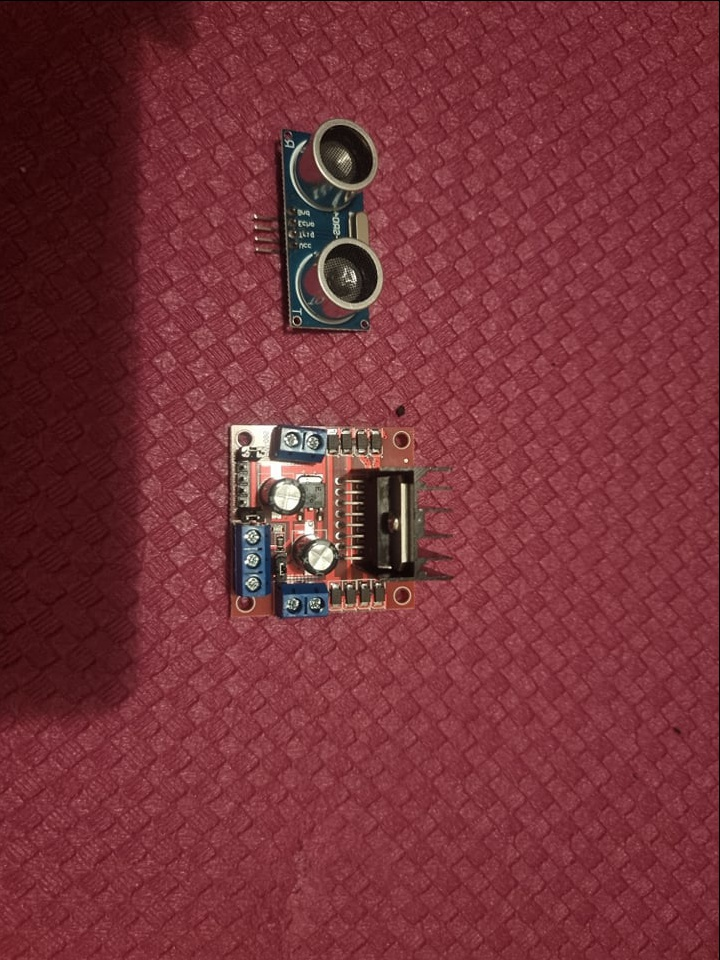MOTOR: (228, 414, 447, 621)
SENSOR: (281, 110, 381, 334)
